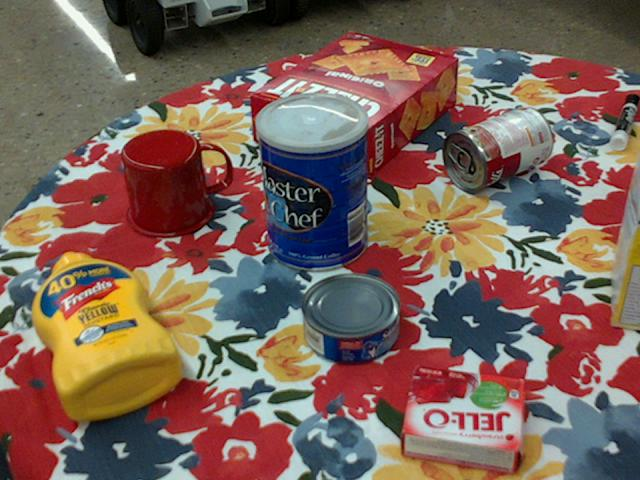cracker_box: (252, 32, 460, 178)
gelatin_box: (402, 367, 530, 475)
large_marker: (610, 94, 639, 149)
master_chef_can: (255, 91, 368, 271)
mug: (120, 128, 230, 238)
mustard_bottle: (32, 252, 182, 419)
sugar_box: (610, 151, 639, 330)
tomato_soup_can: (443, 104, 554, 192)
tuna_fish_can: (301, 274, 401, 365)
